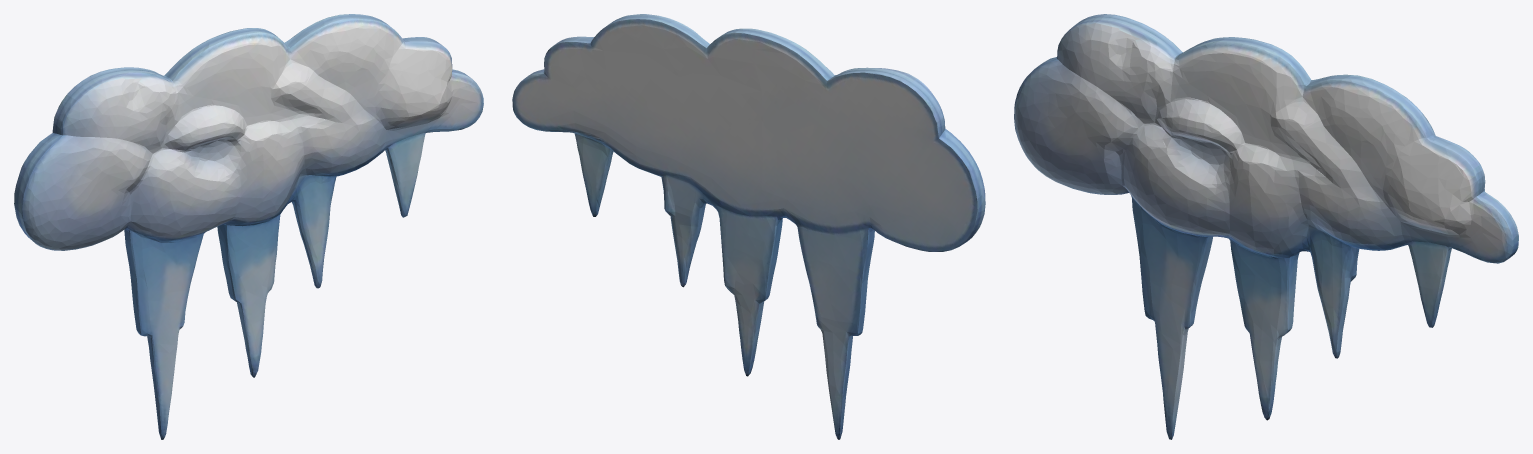
File: spike_cloud1.glb
The picture shows the model from 3 angles, left to right: view 1: azimuth 30°, elevation 25°; view 2: azimuth 150°, elevation 25°; view 3: azimuth 330°, elevation 25°; orthographic projection. The views are drawn at different scales.
Visible parts, largest first — view 1: world.001; view 2: world.001; view 3: world.001.
Part boxes in pixels (box(x1,y1,x2,y2)): world.001: box(14, 14, 483, 439); world.001: box(512, 14, 985, 439); world.001: box(1014, 14, 1518, 439).
Size of the model in its own units: 0.9989 by 0.7973 by 0.0791.
1 material, 1 textured.
